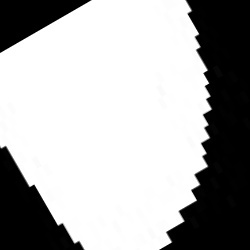spot: (3, 2, 211, 249)
